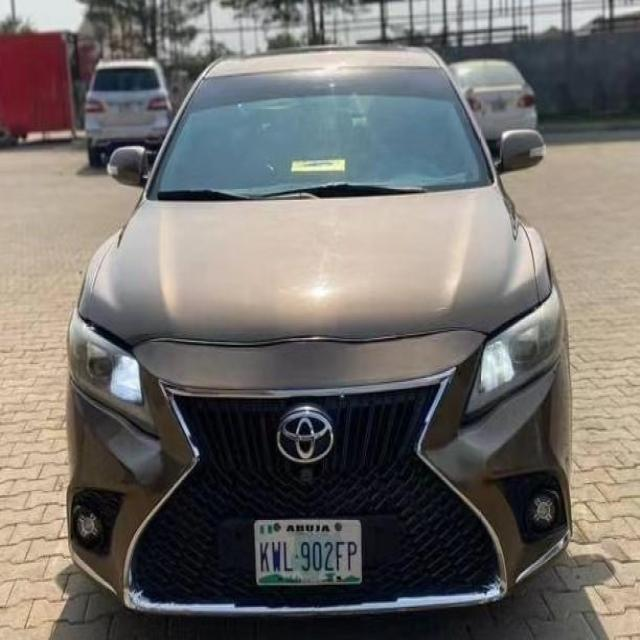Nigerian License Plate - vdataset benjamin-daria: (250, 513, 366, 597)
